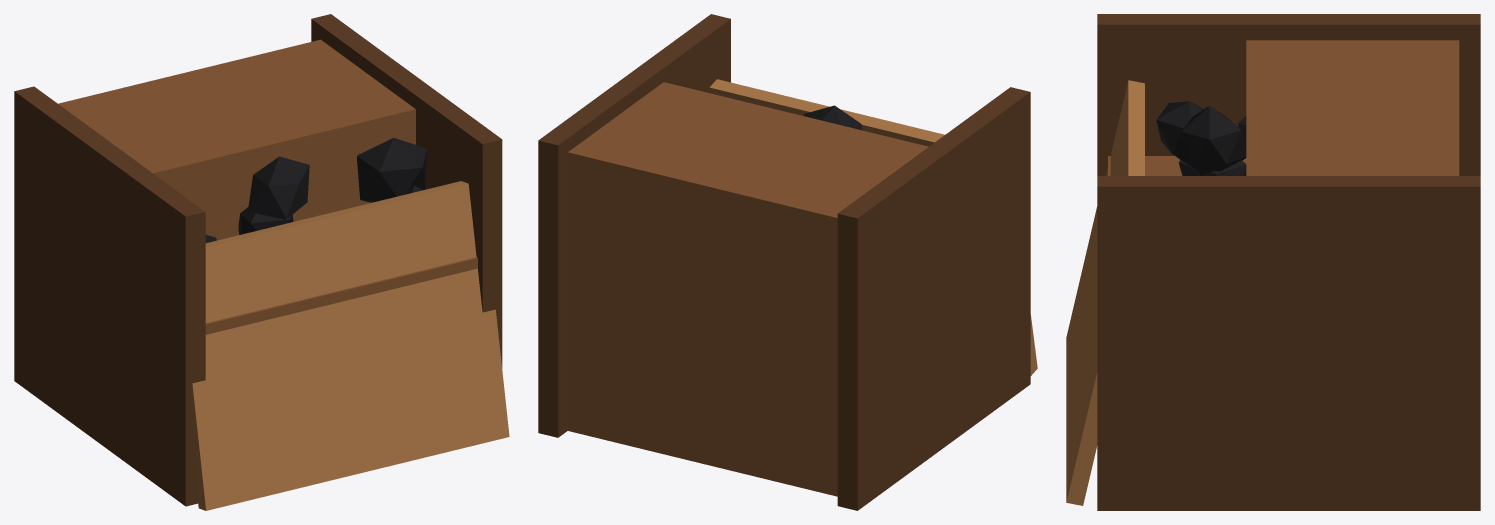
Rendered from Coal_Bin.fbx.
3 renders of one model, left to right at view 1: azimuth 30°, elevation 25°; view 2: azimuth 150°, elevation 25°; view 3: azimuth 270°, elevation 25°, orthographic. The views are drawn at different scales.
Visible parts, largest first — view 1: Coal_Bin; view 2: Coal_Bin; view 3: Coal_Bin.
Part boxes in pixels (<box>): Coal_Bin: <box>14,14,509,510</box>; Coal_Bin: <box>538,14,1037,510</box>; Coal_Bin: <box>1066,14,1480,510</box>.
Size of the model in its own units: 0.96 by 0.84 by 0.9723.
